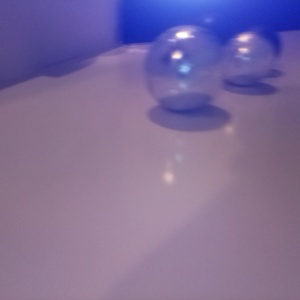alive_ball: (144, 24, 228, 112), (223, 32, 274, 86)
dead_ball: (195, 12, 237, 55), (237, 24, 282, 64)
